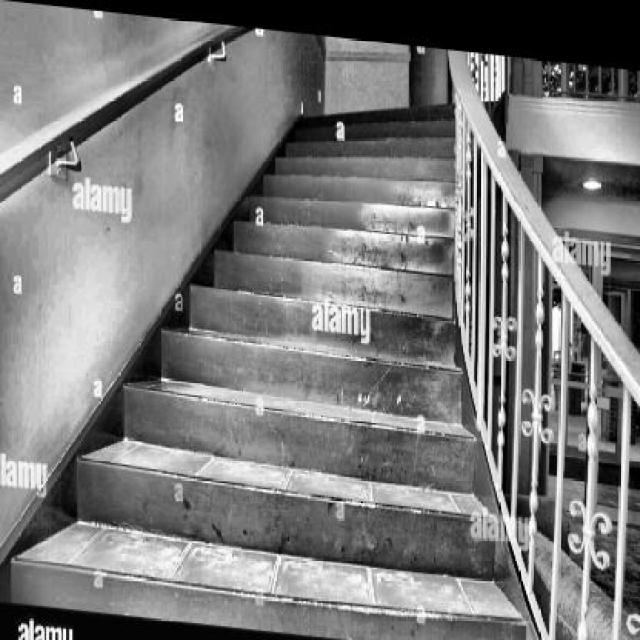stair: (12, 41, 536, 638)
